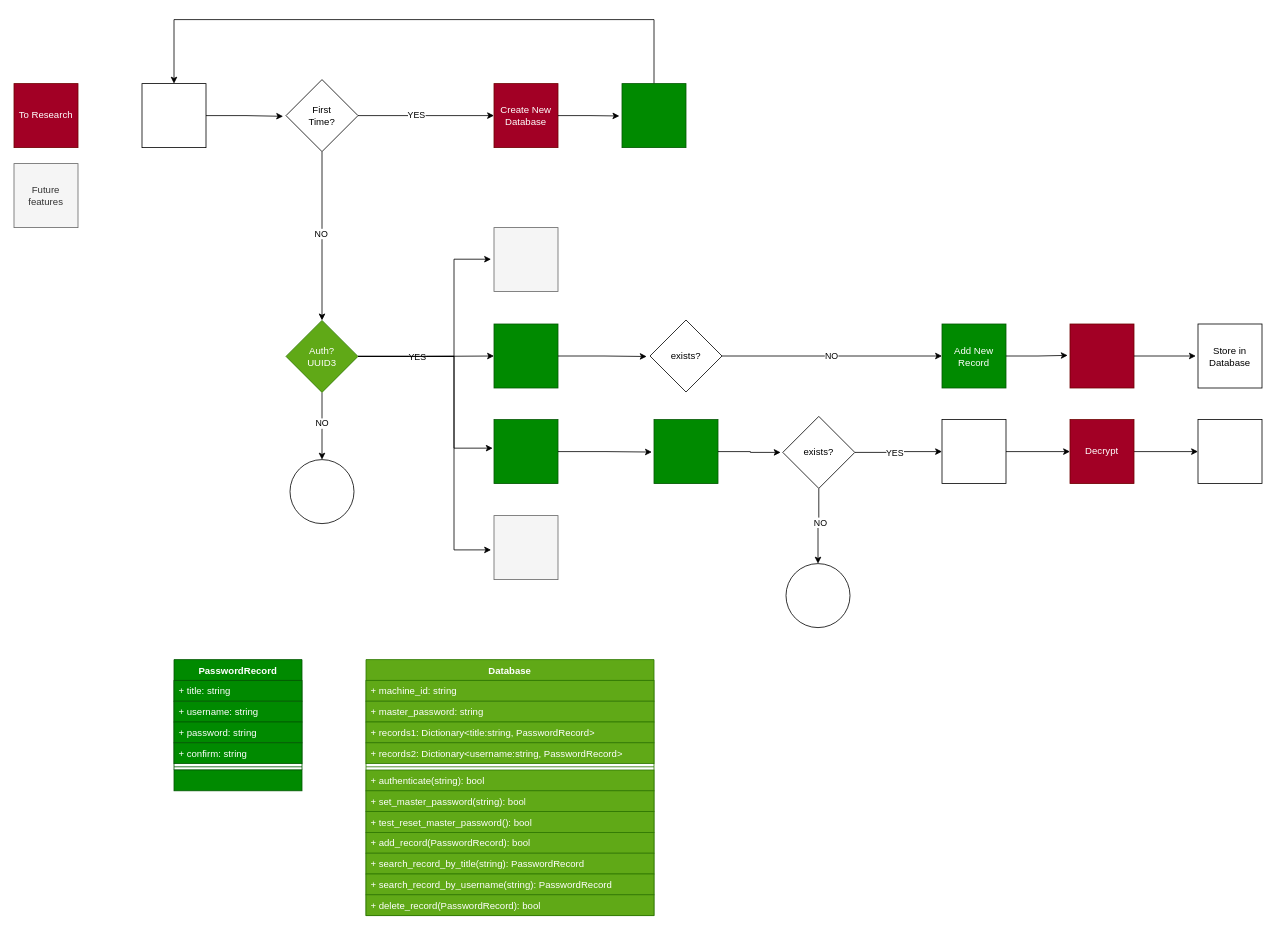
Some shapes in this 1276 by 932 pixel diagram are drawn without their labels. The centre of each missing label's shape, as x and y in pixels:
+ method(type): type: the point at 237,780
Add Record(s): the point at 525,355
Authentication Error!: the point at 321,491
by_title by_username: the point at 685,451
Database Error!: the point at 817,595
Encrypt: the point at 1101,355
Export Database: the point at 525,547
Import Database: the point at 525,259
Password Record: the point at 973,451
Search Record(s): the point at 525,451
Set Master Password: the point at 653,115
Show on Screen: the point at 1229,451
Start App: the point at 173,115
